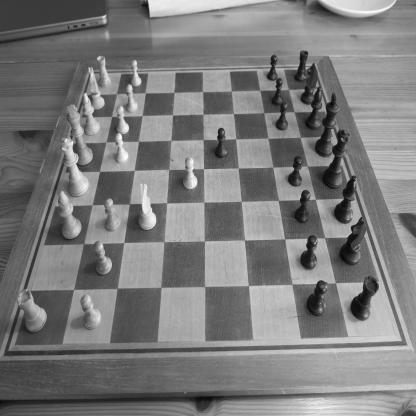black-bishop: (334, 175, 357, 224), (305, 86, 323, 130)
black-king: (315, 92, 339, 158)
black-knight: (340, 216, 366, 266), (301, 61, 318, 105)
black-pawn: (306, 280, 328, 316), (300, 234, 318, 270), (294, 189, 311, 223), (288, 155, 303, 187), (215, 127, 228, 159), (276, 101, 288, 131), (271, 77, 283, 105), (266, 54, 278, 81)
black-queen: (322, 129, 351, 189)
black-rook: (350, 275, 380, 321), (294, 50, 309, 82)
white-bishop: (58, 190, 82, 240), (82, 92, 101, 136)
white-king: (66, 104, 93, 166)
white-knight: (138, 183, 157, 231), (88, 66, 105, 111)
white-pawn: (80, 294, 102, 330), (93, 240, 113, 276), (104, 197, 121, 232), (182, 156, 198, 191), (116, 105, 130, 135), (115, 133, 128, 164), (126, 83, 138, 113), (130, 60, 142, 88)
white-queen: (58, 136, 90, 198)
white-rook: (16, 288, 47, 334), (96, 55, 112, 88)
